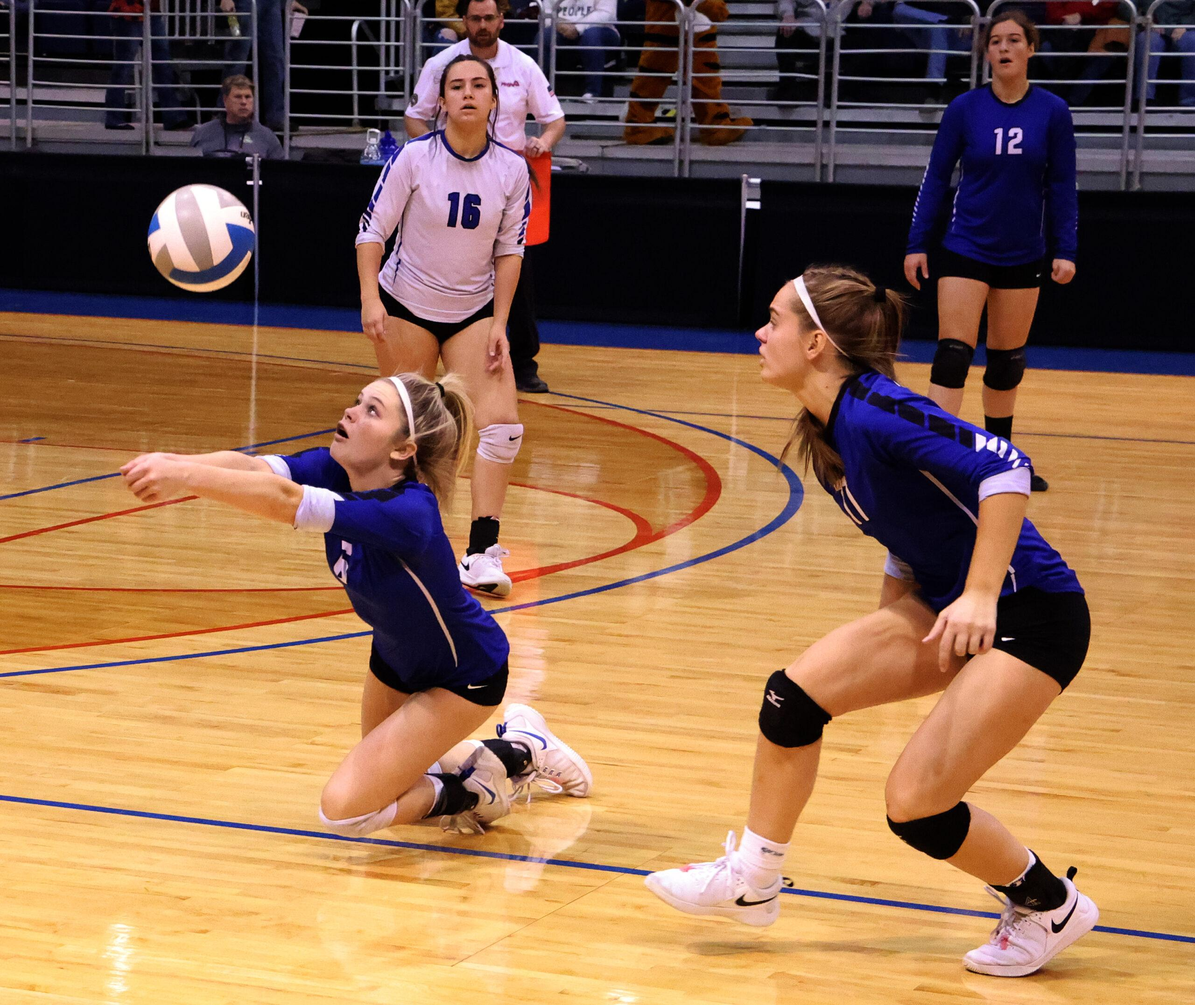ballon_volley: (146, 184, 255, 292)
